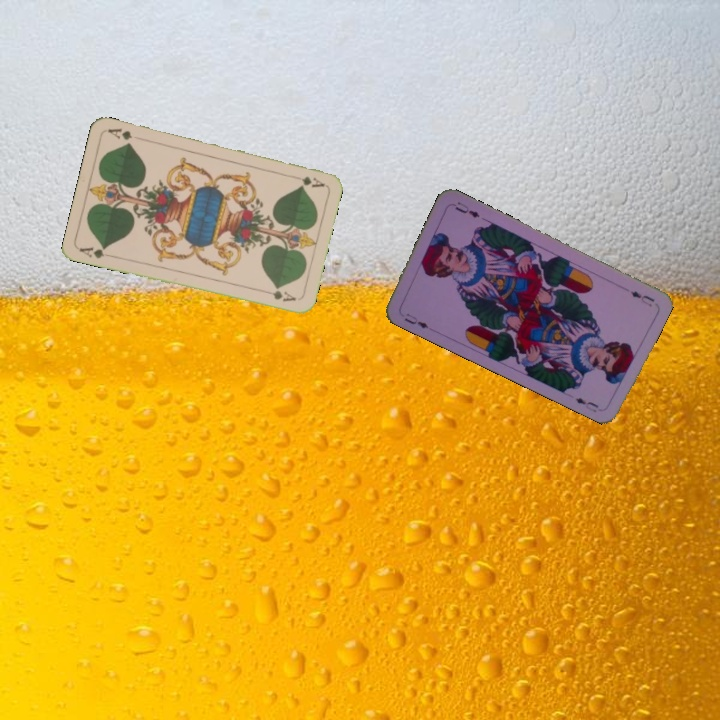EU: (400, 309, 431, 331), (626, 287, 657, 309)
GA: (287, 171, 327, 190), (76, 242, 108, 261)
